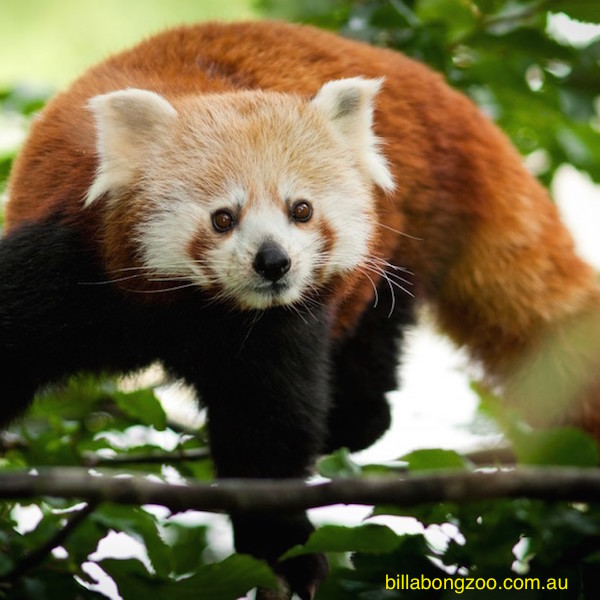red_panda: (15, 20, 588, 561)
